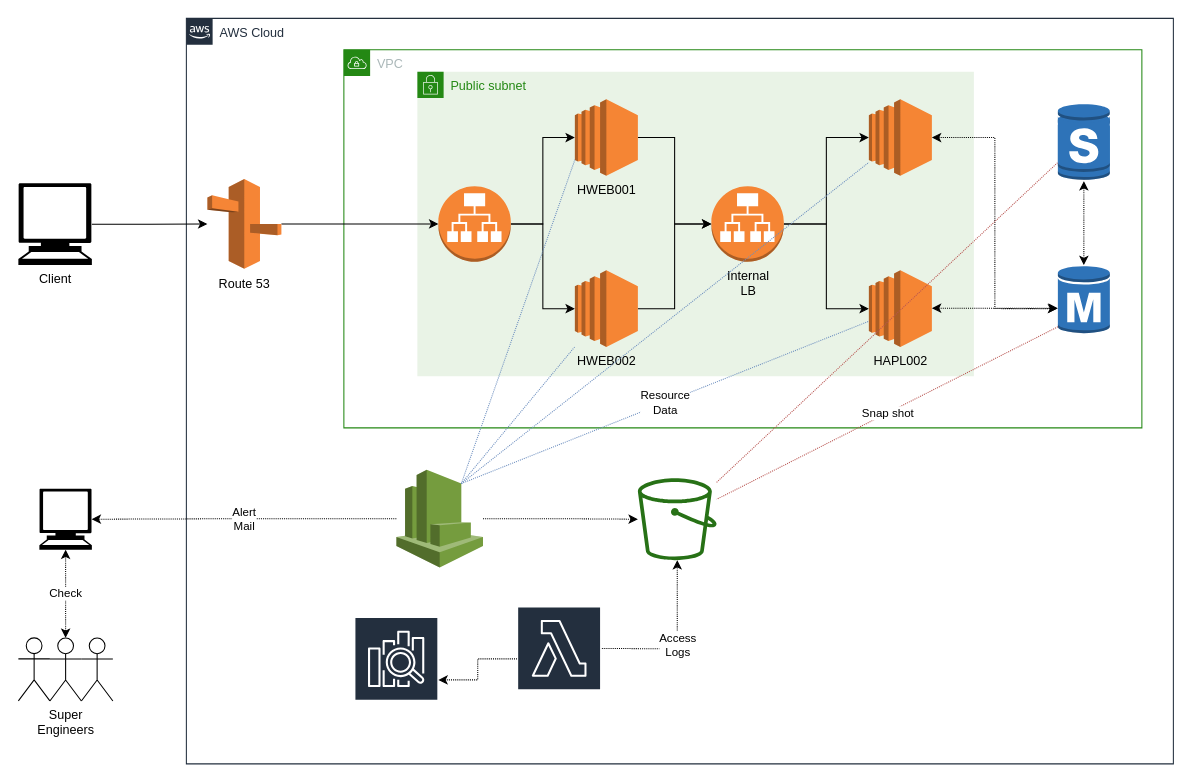
Image size: 1192x782. Some labels were removed from this diagram. Each missing label, with the centre of its shape:
"Amazon Elasticsearch Service" belongs at point (395, 679).
"AWS Lambda" belongs at point (558, 658).
"Cloud Watch" belongs at point (439, 518).
"DMZ LB" belongs at point (474, 223).
"HAPL001" belongs at point (900, 137).
